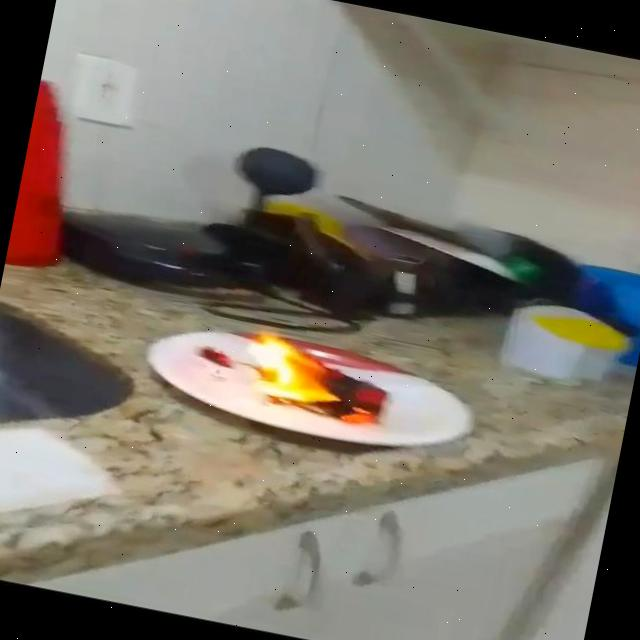fire: (235, 325, 398, 433)
